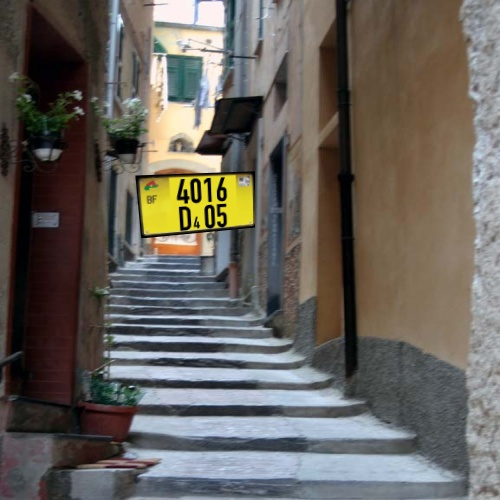plate: (136, 165, 268, 252)
